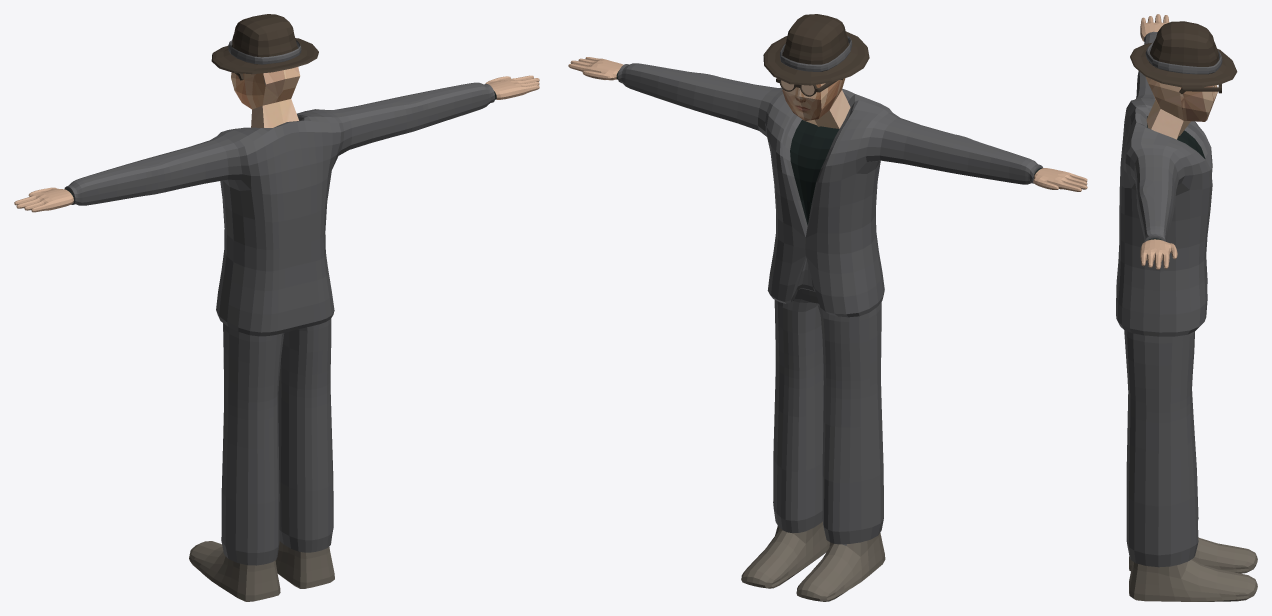
Rendered from King _ Head & Body Export.fbx.
3 views of the same model, side by side, from view 1: azimuth 30°, elevation 25°; view 2: azimuth 150°, elevation 25°; view 3: azimuth 270°, elevation 25° (orthographic).
Parts seen in each view (by area): view 1: _king; view 2: _king; view 3: _king.
Boxes of the visible parts, left/top/right/bottom form: _king: left=14, top=14, right=539, bottom=601; _king: left=568, top=14, right=1087, bottom=601; _king: left=1116, top=14, right=1257, bottom=601.
Size of the model in its own units: 2.13 by 0.5026 by 2.16.
